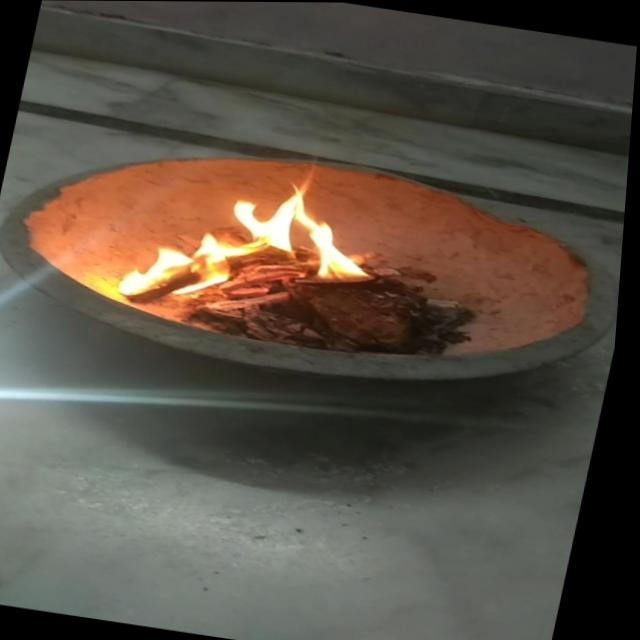fire: (190, 172, 392, 283), (112, 240, 241, 312)
